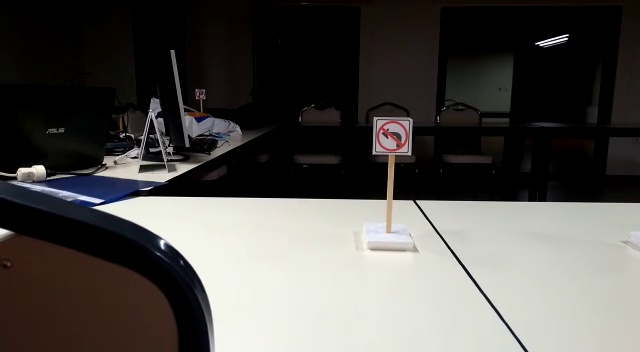sola_donulmez: (374, 117, 411, 157)
